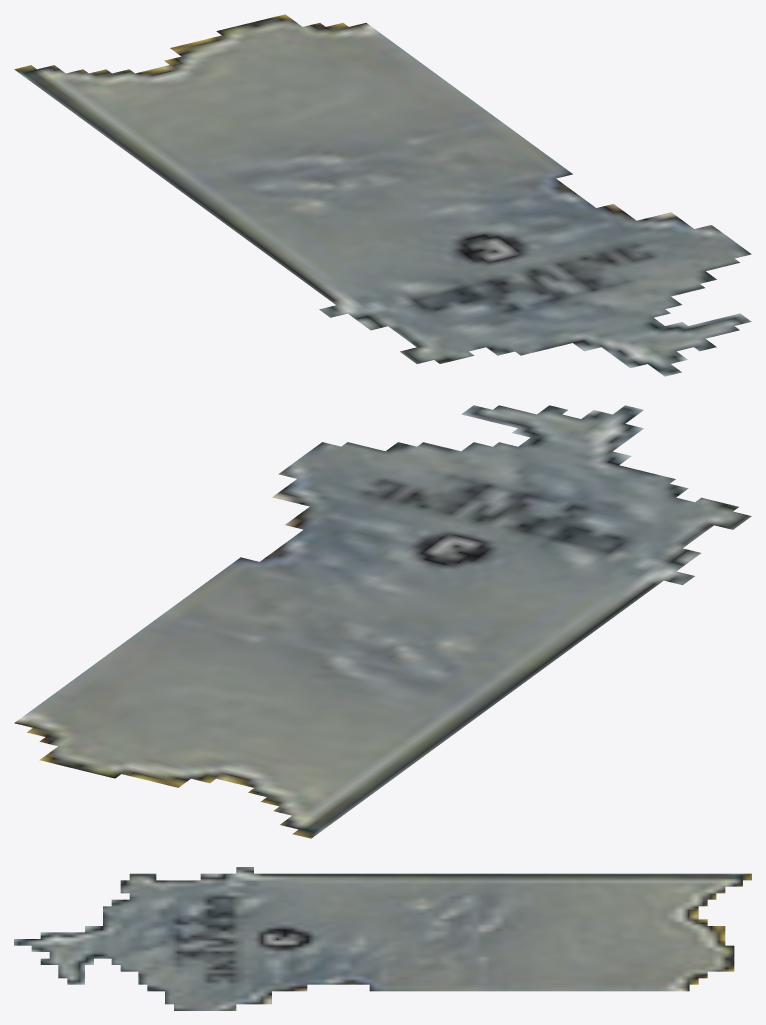
The model's file is ukraine.gltf.
The picture shows the model from 3 angles, top to bottom: view 1: azimuth 30°, elevation 25°; view 2: azimuth 150°, elevation 25°; view 3: azimuth 270°, elevation 25°; orthographic projection. The views are drawn at different scales.
Visible parts, largest first — view 1: Plane; view 2: Plane; view 3: Plane.
Boxes of the visible parts, box(x1,y1,x2,y2) form: Plane: box(14, 14, 751, 376); Plane: box(14, 405, 751, 838); Plane: box(14, 867, 751, 1010).
Bounding box in the file's own units: 0.2172 × 0 × 0.4713.
Materials: 1 (1 with a texture image).
